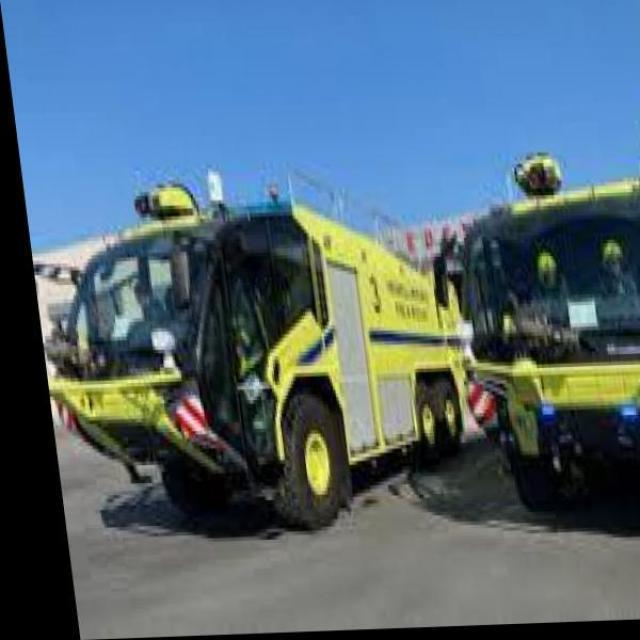emergency: (42, 168, 480, 532), (454, 148, 638, 512)
